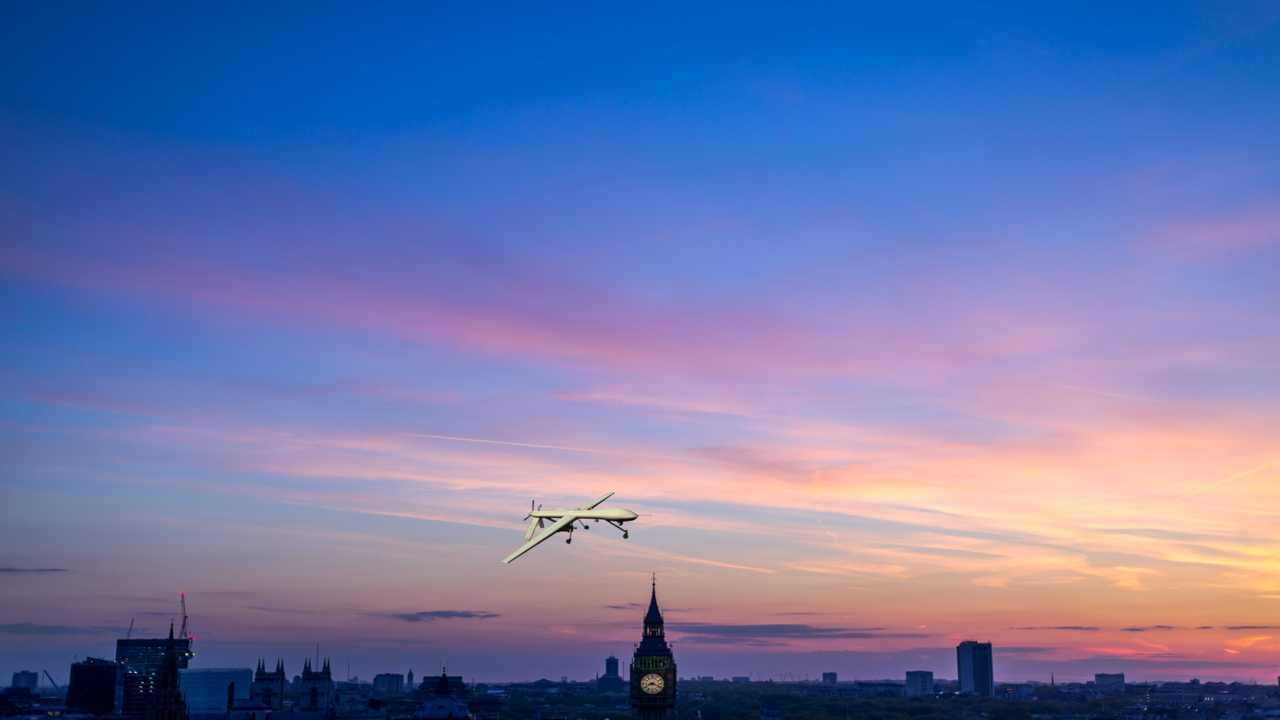military drone: (501, 491, 637, 563)
